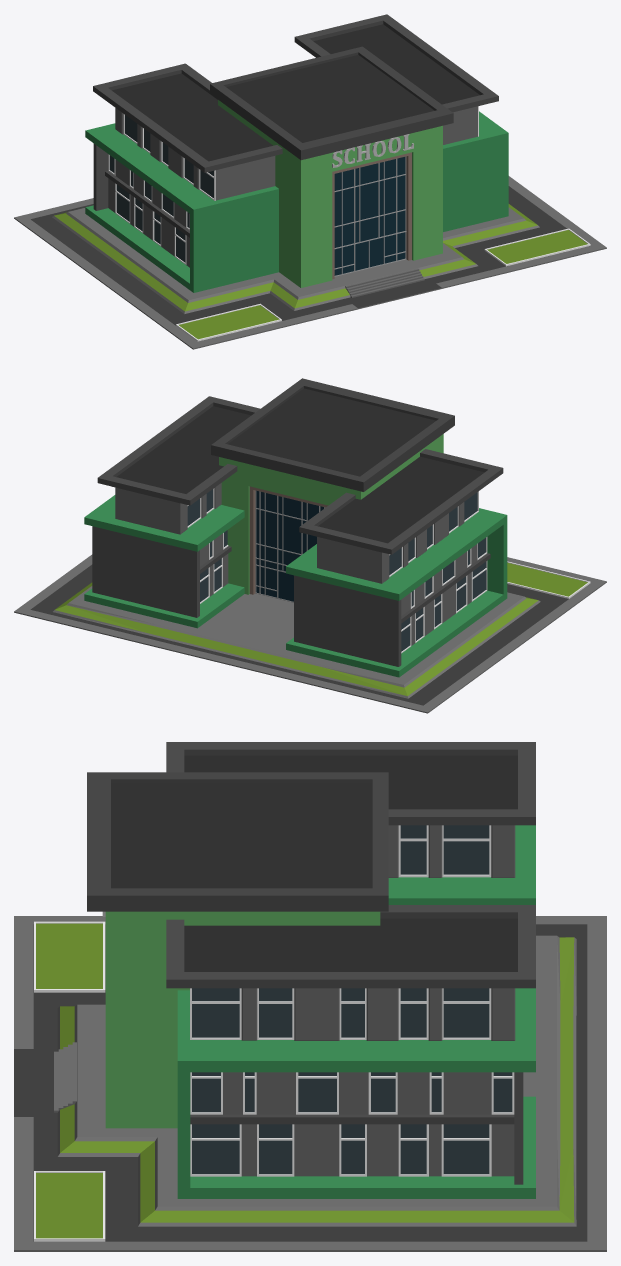
File: school.glb
The picture shows the model from 3 angles, top to bottom: view 1: azimuth 30°, elevation 25°; view 2: azimuth 150°, elevation 25°; view 3: azimuth 270°, elevation 25°; orthographic projection. The views are drawn at different scales.
Visible parts, largest first — view 1: school_a; view 2: school_a; view 3: school_a.
Boxes of the visible parts, box(x1,y1,x2,y2) form: school_a: box(14, 14, 606, 349); school_a: box(14, 378, 606, 713); school_a: box(14, 742, 606, 1251).
Size of the model in its own units: 40 by 13.98 by 30.
Materials: 1 (1 with a texture image).
